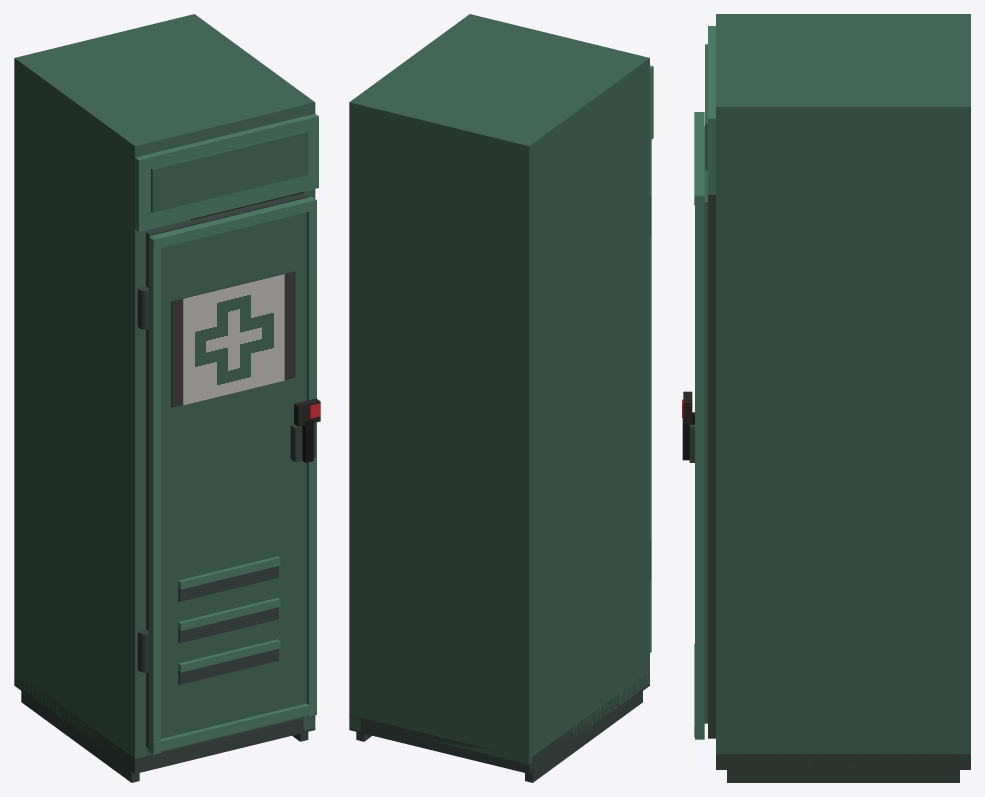
File: CMU3DInheritedLockersMedicalCloud.glb
The picture shows the model from 3 angles, left to right: view 1: azimuth 30°, elevation 25°; view 2: azimuth 150°, elevation 25°; view 3: azimuth 270°, elevation 25°; orthographic projection. The views are drawn at different scales.
Visible parts, largest first — view 1: full-depth side wall -1, separate closed steel door, top structural cap, original departmental identity emblem, header inset field, raised vertical door molding -1, header front band, rear structural panel, raised vertical door molding 1, bottom pan, source-width identity panel side frame, raised horizontal door molding 1.44 (+11 smaller); view 2: rear structural panel, full-depth side wall -1, top structural cap, full-depth side wall 1, bottom pan, grounded cabinet foot -1, raised vertical door molding -1; view 3: full-depth side wall 1, top structural cap, rear structural panel, raised vertical door molding 1, door shadow gasket, bottom pan, grounded cabinet foot 1, separate closed steel door, full-depth side wall -1, header front band, raised horizontal door molding 1.44.
Part boxes in pixels (x1,y1,x2,y2): full-depth side wall -1: (14,56,146,758); separate closed steel door: (161,212,306,738); top structural cap: (15,14,315,159); original departmental identity emblem: (183,274,284,405); header inset field: (151,130,308,212); raised vertical door molding -1: (148,236,161,754); header front band: (135,113,318,231); rear structural panel: (14,14,201,680); raised vertical door molding 1: (306,197,316,716); bottom pan: (14,674,315,773); source-width identity panel side frame: (171,271,295,407); raised horizontal door molding 1.44: (150,197,315,249); rear structural panel: (349,97,536,764); full-depth side wall -1: (518,55,649,754); top structural cap: (349,14,649,160); full-depth side wall 1: (349,14,480,730); bottom pan: (349,671,649,773); grounded cabinet foot -1: (525,691,642,782); raised vertical door molding -1: (650,140,651,652); full-depth side wall 1: (716,101,970,767); top structural cap: (716,14,970,122); rear structural panel: (955,14,970,758); raised vertical door molding 1: (695,195,704,739); door shadow gasket: (708,194,715,738); bottom pan: (716,754,970,769); grounded cabinet foot 1: (727,770,959,782); separate closed steel door: (704,126,707,723); full-depth side wall -1: (716,14,970,19); header front band: (708,26,715,194); raised horizontal door molding 1.44: (694,112,704,205).
Size of the model in its own units: 0.5 by 1.7 by 0.657.
Materials: 8 (1 with a texture image).
